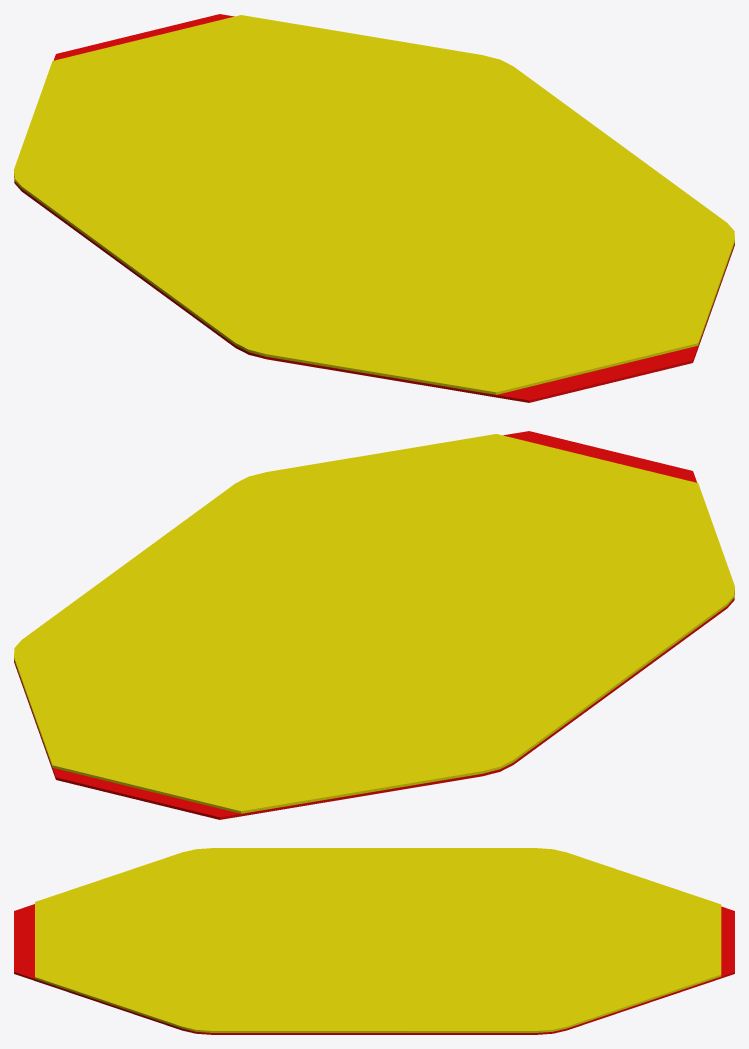
Rendered from Aposito.fbx.
3 renders of one model, top to bottom at view 1: azimuth 30°, elevation 25°; view 2: azimuth 150°, elevation 25°; view 3: azimuth 270°, elevation 25°, orthographic. The views are drawn at different scales.
Visible parts, largest first — view 1: pCube2, pCube1; view 2: pCube2, pCube1; view 3: pCube2, pCube1.
Boxes of the visible parts, <box> form: pCube2: <box>14,15,734,394</box>; pCube1: <box>14,14,734,402</box>; pCube2: <box>14,434,734,813</box>; pCube1: <box>14,431,734,819</box>; pCube2: <box>35,848,721,1032</box>; pCube1: <box>14,904,734,1034</box>.
Size of the model in its own units: 6 by 0.06 by 10.
